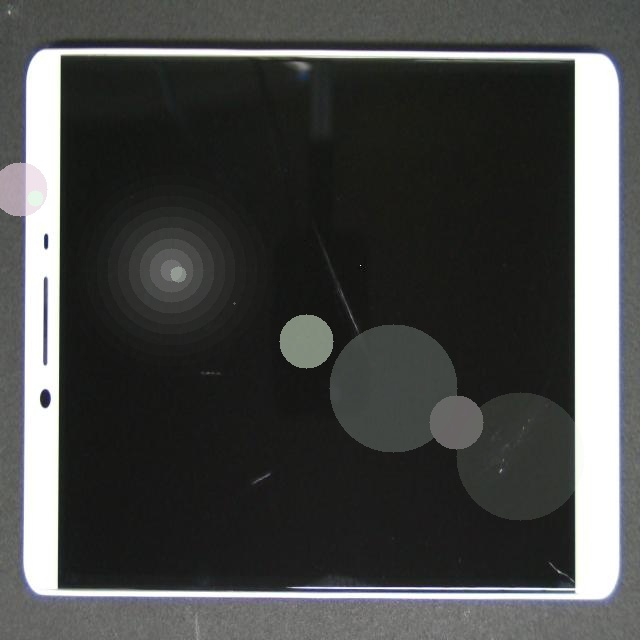scratch: (127, 15, 471, 372)
